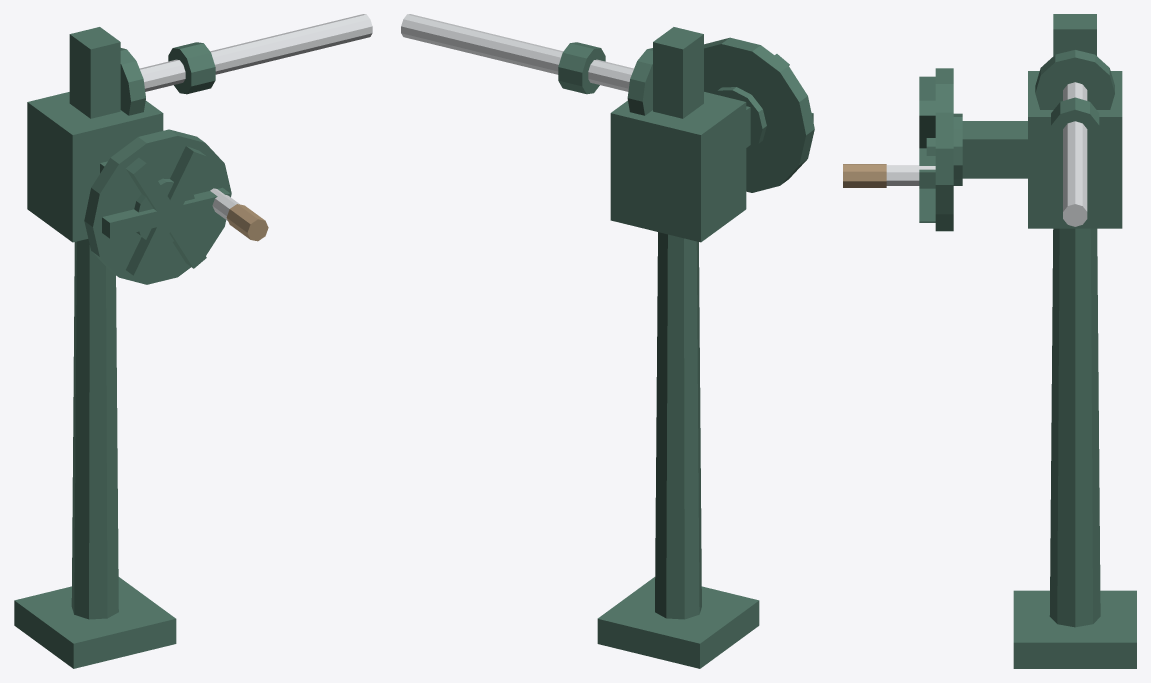
Rendered from botanical-glasshouse-and-palm-house-botanical-glasshou-6db869fb__38547.glb.
3 renders of one model, left to right at view 1: azimuth 30°, elevation 25°; view 2: azimuth 150°, elevation 25°; view 3: azimuth 270°, elevation 25°, orthographic. The views are drawn at different scales.
Parts seen in each view (by area): view 1: botanical-glasshouse-and-palm-house-ventilation-crank-gear, crank/iron, shaft/steel, shaft/iron, crank/timber; view 2: botanical-glasshouse-and-palm-house-ventilation-crank-gear, crank/iron, shaft/steel, shaft/iron; view 3: botanical-glasshouse-and-palm-house-ventilation-crank-gear, crank/iron, shaft/iron, shaft/steel, crank/timber, crank/steel.
Part boxes in pixels (left/top/right/bottom): botanical-glasshouse-and-palm-house-ventilation-crank-gear: left=14, top=27, right=176, bottom=668; crank/iron: left=84, top=129, right=231, bottom=284; shaft/steel: left=140, top=14, right=372, bottom=91; shaft/iron: left=120, top=42, right=215, bottom=115; crank/timber: left=226, top=204, right=268, bottom=241; botanical-glasshouse-and-palm-house-ventilation-crank-gear: left=597, top=27, right=759, bottom=668; crank/iron: left=704, top=37, right=814, bottom=192; shaft/steel: left=401, top=14, right=633, bottom=91; shaft/iron: left=558, top=42, right=652, bottom=115; botanical-glasshouse-and-palm-house-ventilation-crank-gear: left=962, top=14, right=1136, bottom=668; crank/iron: left=919, top=68, right=962, bottom=231; shaft/iron: left=1035, top=50, right=1114, bottom=151; shaft/steel: left=1063, top=82, right=1087, bottom=226; crank/timber: left=843, top=164, right=886, bottom=187; crank/steel: left=886, top=165, right=935, bottom=185.
Size of the model in its own units: 1.13 by 1.89 by 0.8101.
